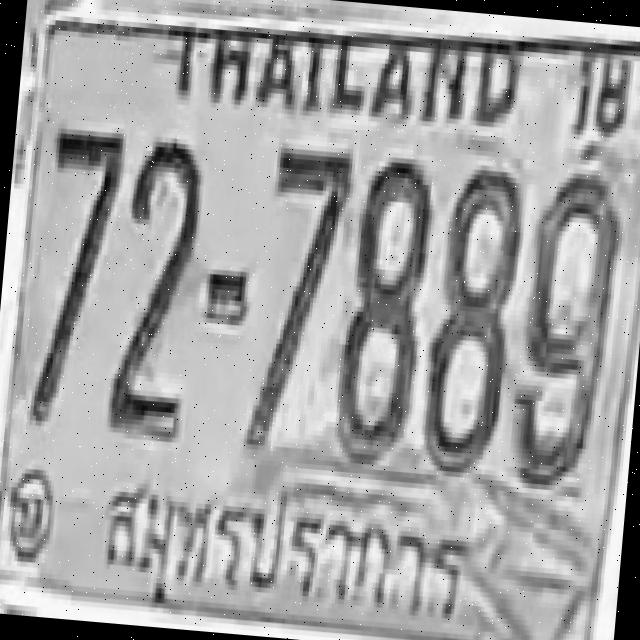2: (104, 132, 206, 440)
7: (243, 142, 353, 456), (28, 122, 126, 430)
8: (329, 152, 436, 466), (418, 162, 525, 476)
9: (506, 168, 624, 492)
SamutPrakan: (93, 467, 486, 640)
